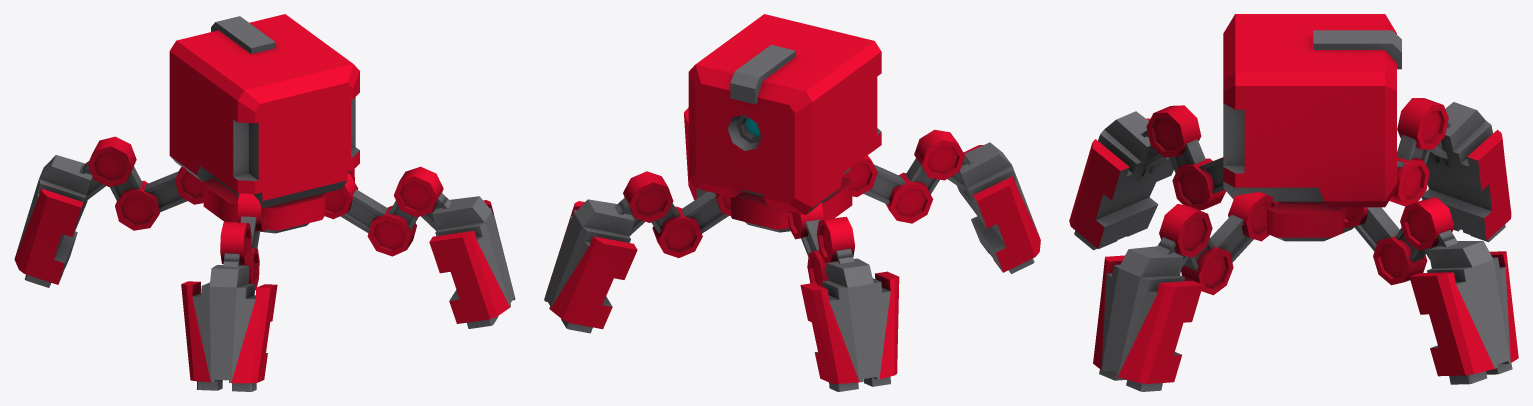
The model's file is Monster1_Idle3.obj.
3 views of the same model, side by side, from view 1: azimuth 30°, elevation 25°; view 2: azimuth 150°, elevation 25°; view 3: azimuth 270°, elevation 25° (orthographic). The views are drawn at different scales.
Parts seen in each view (by area): view 1: Box006, Object021, Object017, Object025, Object020, Object028, Object027, Object018, Object019, Object026, Object024, Object022; view 2: Box006, Object025, Object013, Object021, Object016, Object024, Object023, Object015, Object022, Object028, Object014, Object026 (+1 smaller); view 3: Box006, Object017, Object013, Object021, Object025, Object018, Object016, Object024, Object020, Object023, Object028, Object015 (+4 smaller).
Boxes of the visible parts, x1,y1,x2,y2 form: Box006: (169, 14, 359, 233); Object021: (181, 265, 277, 391); Object017: (429, 196, 515, 328); Object025: (14, 155, 92, 287); Object020: (394, 166, 451, 230); Object028: (79, 136, 136, 201); Object027: (110, 166, 159, 230); Object018: (325, 173, 388, 233); Object019: (367, 200, 418, 256); Object026: (144, 167, 215, 212); Object024: (220, 222, 251, 266); Object022: (237, 193, 266, 248); Box006: (688, 14, 881, 232); Object025: (800, 258, 899, 391); Object013: (544, 199, 637, 333); Object021: (957, 142, 1040, 273); Object016: (614, 171, 673, 235); Object024: (914, 129, 972, 191); Object023: (886, 158, 939, 223); Object015: (651, 203, 702, 257); Object022: (842, 155, 905, 204); Object028: (817, 216, 854, 263); Object014: (681, 191, 745, 233); Object026: (788, 203, 824, 256); Box006: (1223, 14, 1401, 241); Object017: (1093, 246, 1202, 391); Object013: (1409, 241, 1518, 384); Object021: (1069, 111, 1173, 250); Object025: (1421, 102, 1511, 242); Object018: (1210, 191, 1278, 262); Object016: (1400, 197, 1458, 259); Object024: (1141, 105, 1201, 168); Object020: (1155, 204, 1212, 268); Object023: (1169, 139, 1226, 210); Object028: (1397, 98, 1451, 158); Object015: (1373, 227, 1427, 285).
Bounding box in the file's own units: 150 × 103 × 153.
